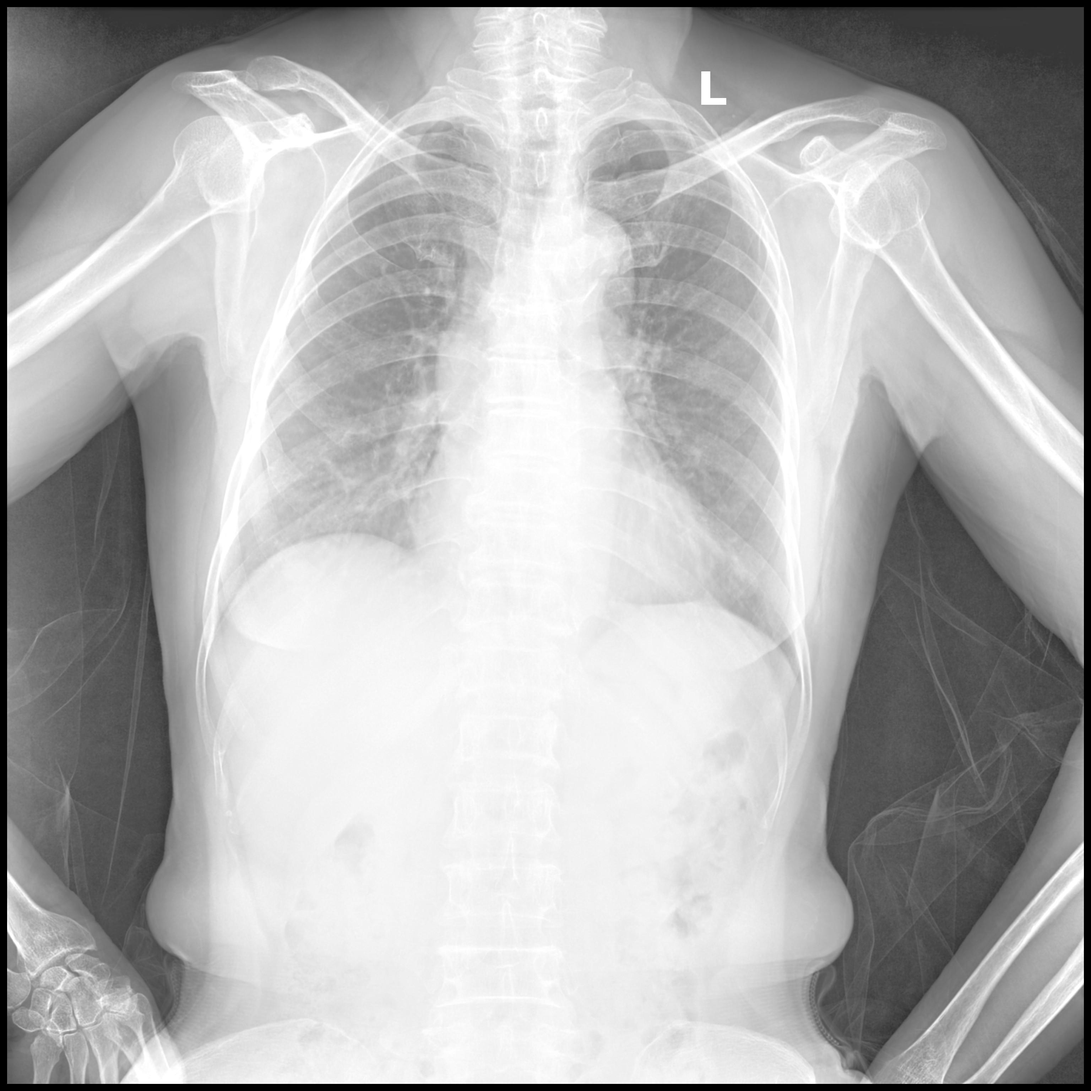Aortic enlargement: (539, 210, 636, 319)
